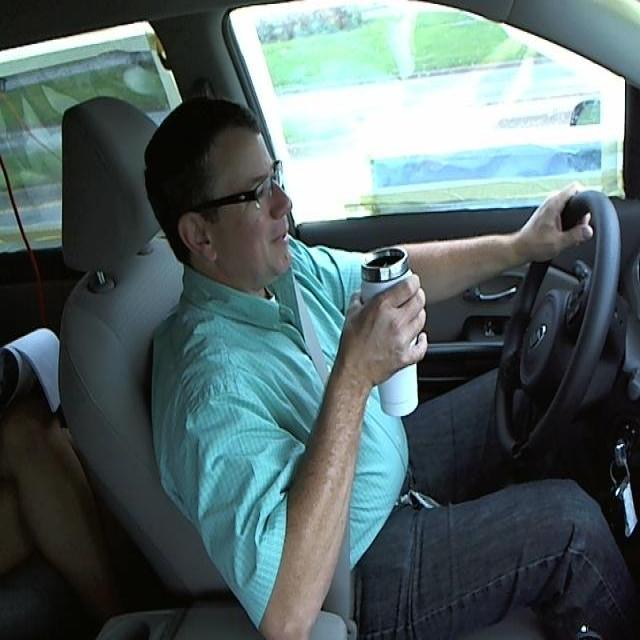Seatbelt: (355, 242, 416, 418)
